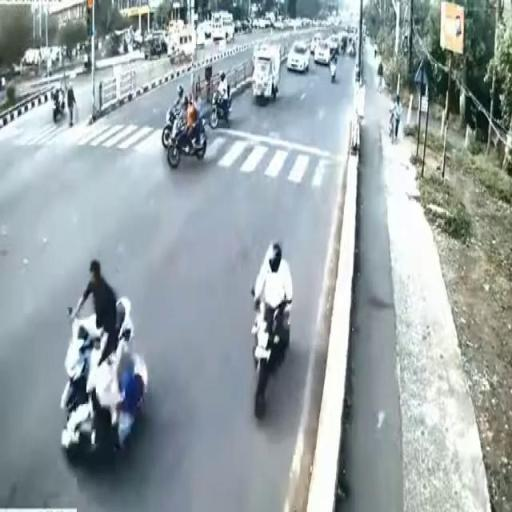小汽车: (252, 50, 283, 103), (164, 30, 198, 63), (285, 39, 309, 74), (210, 16, 237, 40), (316, 38, 340, 63)
自行车: (60, 262, 151, 462), (240, 238, 302, 420), (166, 122, 209, 169), (207, 70, 233, 128), (162, 112, 198, 142), (50, 88, 70, 122), (326, 42, 340, 84)
